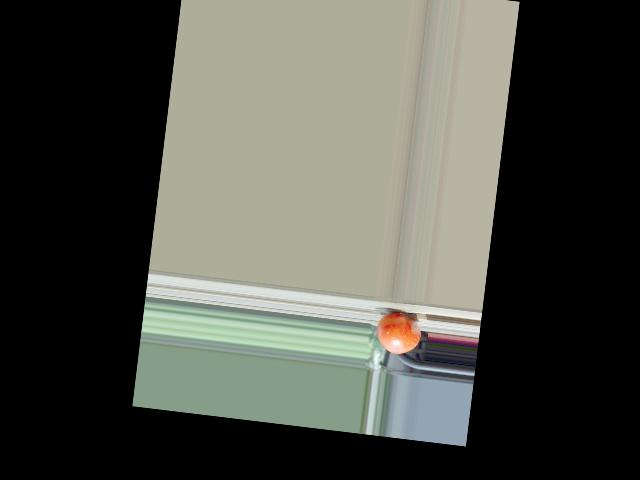tomato: (373, 311, 422, 356)
